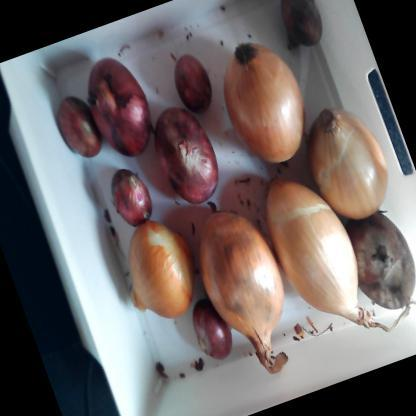onion: (247, 158, 384, 344), (206, 21, 324, 182), (106, 212, 214, 334), (138, 86, 235, 215), (93, 158, 164, 233), (48, 87, 110, 166)
